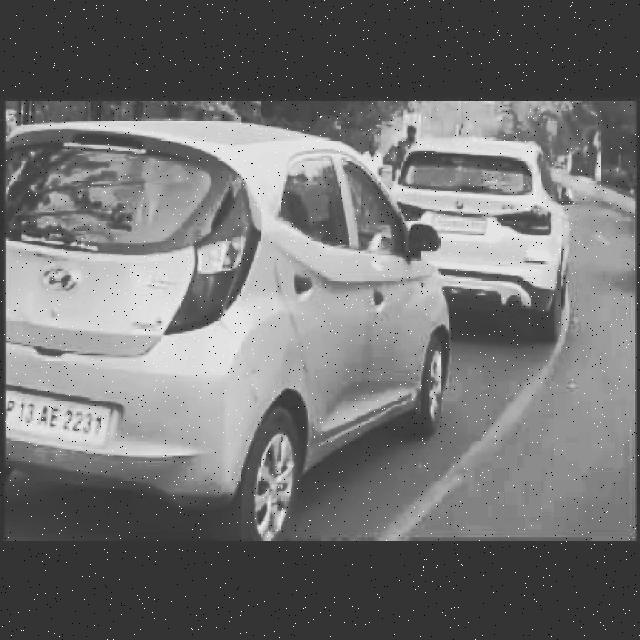Car: (6, 114, 408, 569), (421, 128, 587, 332)
